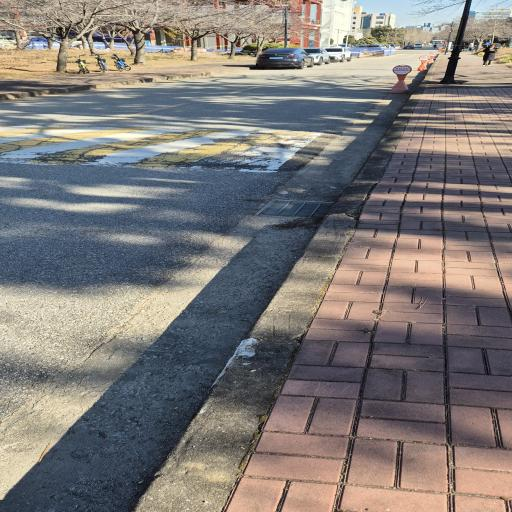drain: (255, 200, 333, 218)
